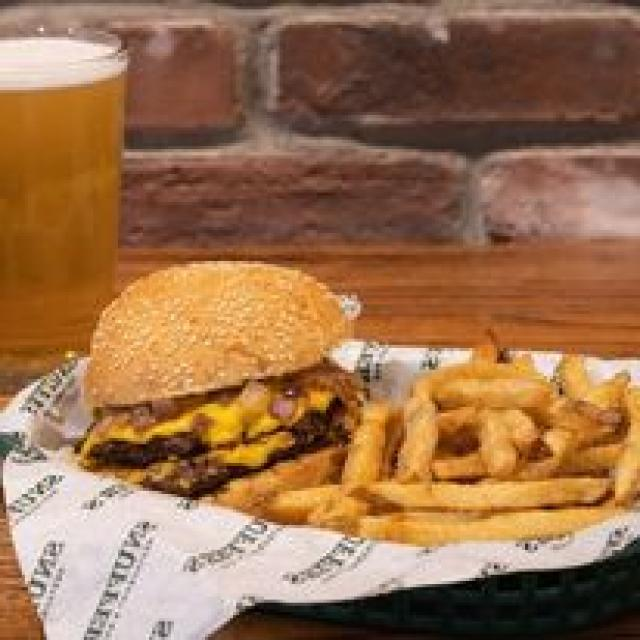Burger: (68, 242, 367, 513)
French Fries: (287, 319, 638, 552)
